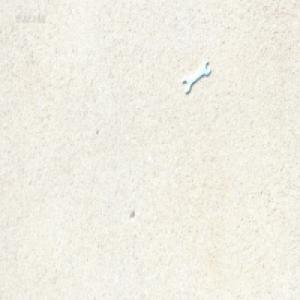Wrench: (183, 61, 209, 93)
